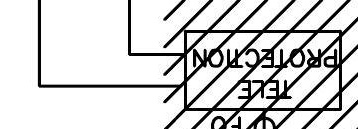tele_protection: (181, 27, 345, 114)
